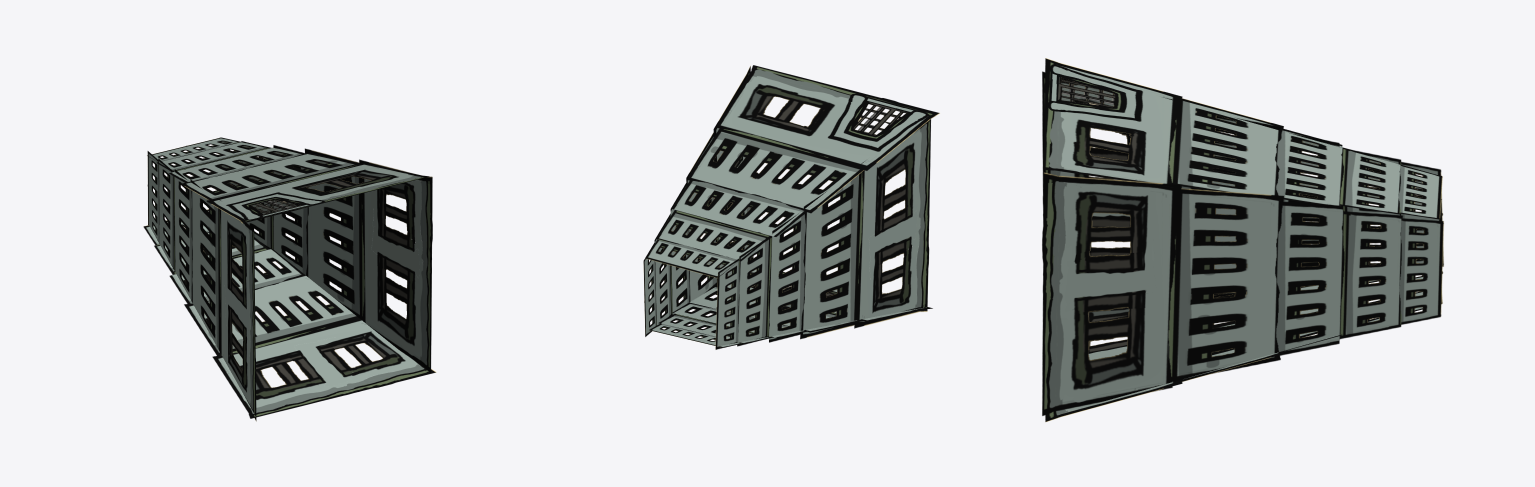
File: tower_commercial3D_t.gltf
3 views of the same model, side by side, from view 1: azimuth 30°, elevation 25°; view 2: azimuth 150°, elevation 25°; view 3: azimuth 270°, elevation 25° (orthographic). The views are drawn at different scales.
Parts seen in each view (by area): view 1: tower-commercial-near.003; view 2: tower-commercial-near.003; view 3: tower-commercial-near.003.
Part boxes in pixels (x1=…): tower-commercial-near.003: x1=143, y1=137, x2=436, y2=421; tower-commercial-near.003: x1=643, y1=65, x2=939, y2=349; tower-commercial-near.003: x1=1042, y1=58, x2=1443, y2=422.
Size of the model in its own units: 4.15 by 4.15 by 5.1.
2 materials, 2 textured.
